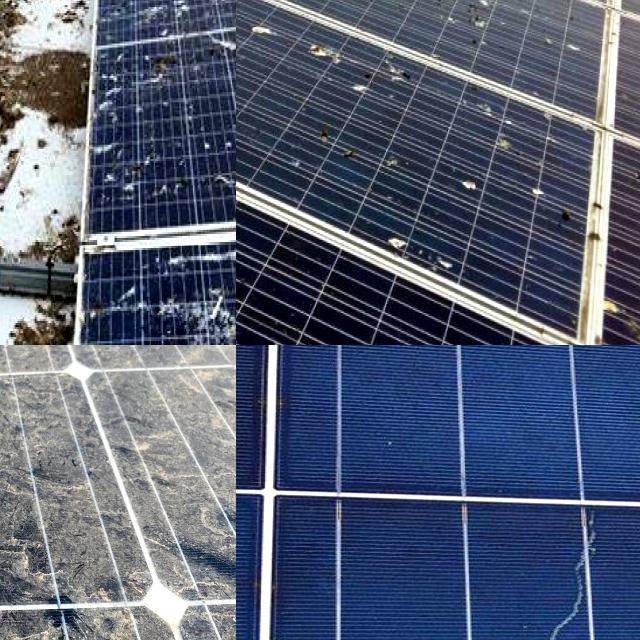bird: (152, 281, 236, 345), (391, 230, 466, 288), (0, 234, 72, 282), (542, 0, 586, 73), (595, 282, 640, 345), (302, 121, 360, 164), (0, 167, 55, 211), (460, 0, 499, 62), (134, 52, 188, 96), (236, 13, 287, 48), (339, 0, 407, 25), (196, 234, 236, 276), (302, 42, 357, 70), (385, 60, 438, 88), (518, 0, 560, 31), (486, 127, 524, 160), (386, 143, 414, 186), (0, 166, 23, 216), (454, 162, 488, 195), (548, 200, 586, 229), (0, 302, 17, 341), (525, 180, 555, 200), (574, 0, 611, 15), (565, 0, 599, 16), (0, 0, 28, 16), (132, 338, 158, 345)
dust: (0, 371, 119, 628), (0, 379, 108, 615), (150, 368, 236, 565), (86, 345, 217, 400), (0, 345, 84, 403), (0, 345, 74, 406), (0, 345, 23, 408)
shadow: (302, 518, 608, 640)
